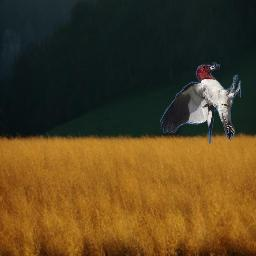Woodpecker: (160, 62, 241, 144)
